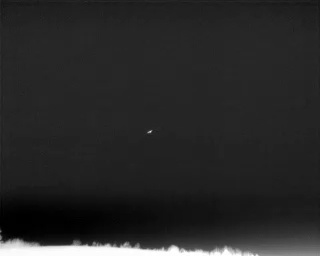BIRD: (145, 127, 154, 137)
